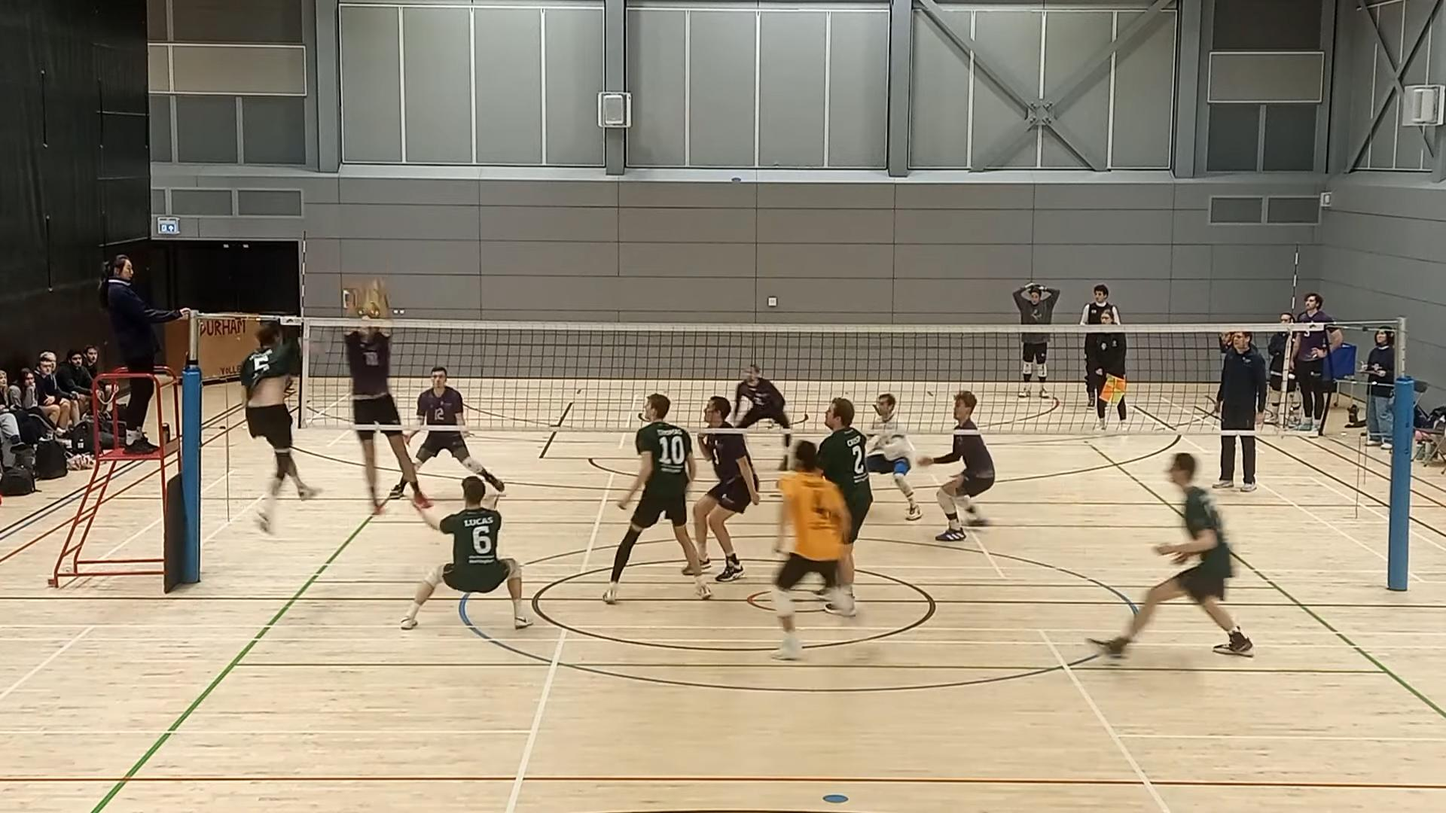Attack: (239, 317, 321, 533)
Block: (340, 284, 432, 516)
Player: (1090, 453, 1252, 656), (603, 393, 710, 604), (401, 477, 532, 629), (772, 440, 853, 659), (404, 366, 504, 497), (919, 391, 994, 540), (819, 398, 871, 595), (693, 432, 760, 581), (865, 394, 921, 520), (732, 364, 791, 470)
